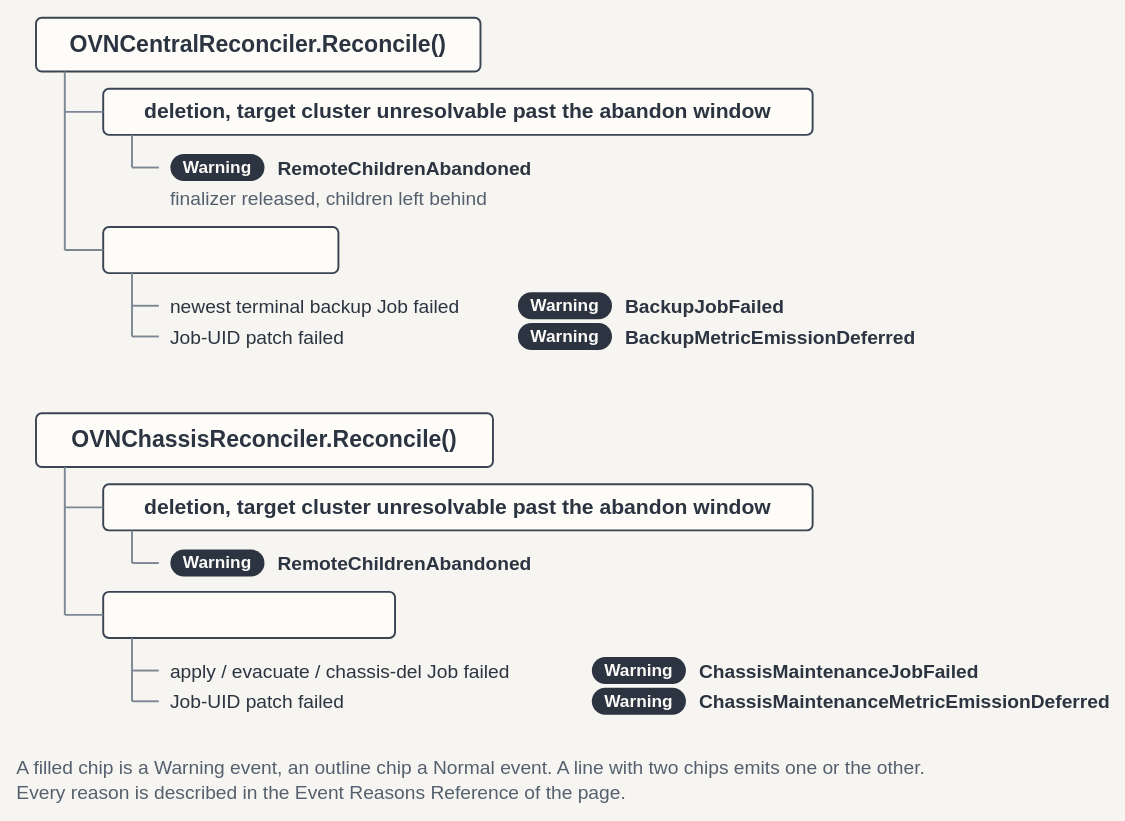
Some shapes in this 1125 by 821 pixel diagram are drawn without their labels. Each missing label, with the centre of its shape:
"reconcileBackup()" belongs at (220,250).
"reconcileMaintenance()" belongs at (249,614).
